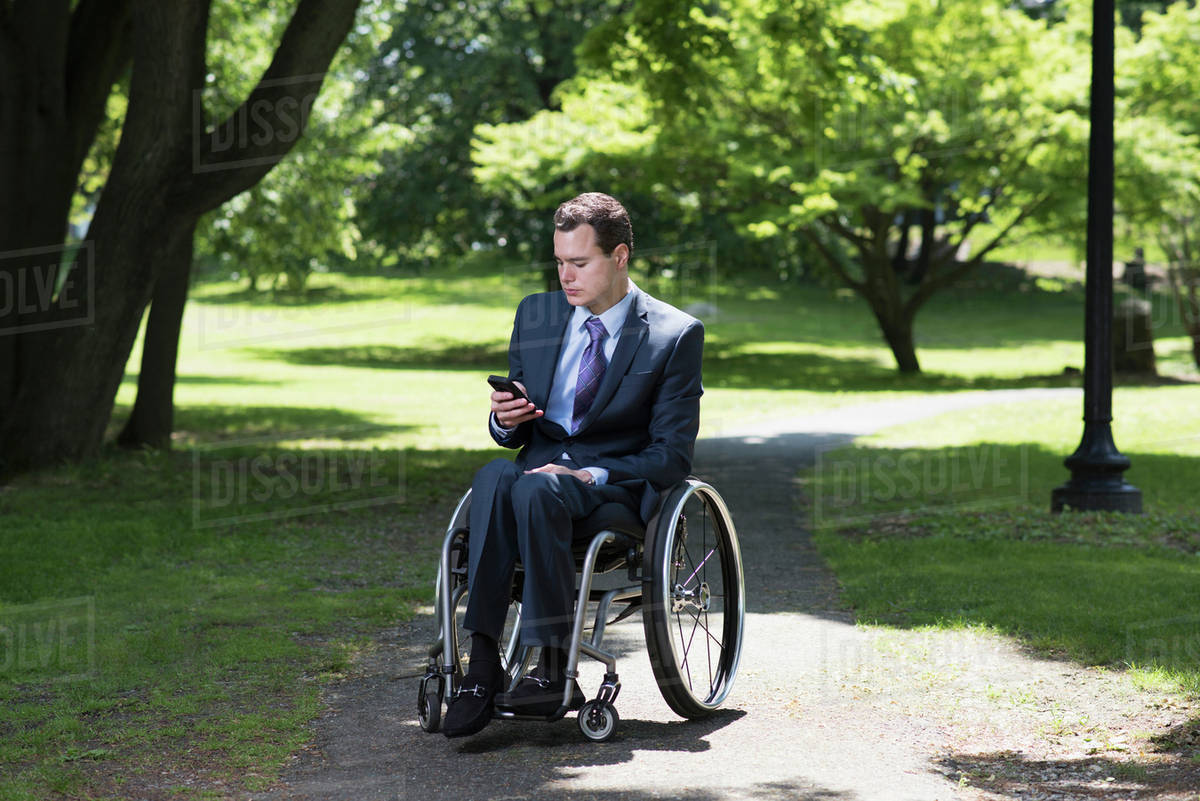person: (473, 172, 711, 449)
wheelchair: (429, 468, 742, 743)
